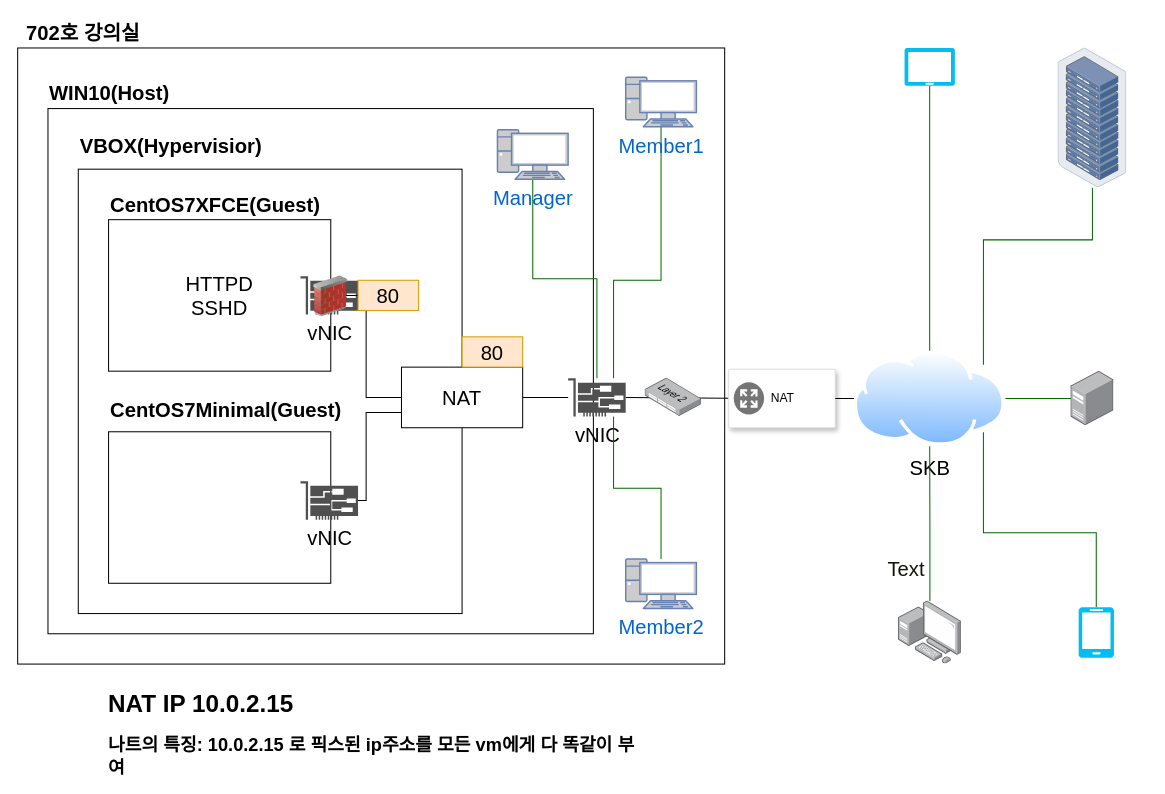
This 1165x794 diagram has some shape labels left out. The shapes that lost their labels are listed below. From the top down, each one's centre as x and y in pixels, then its label:
At (x=929, y=66): "Tab".
At (x=1091, y=117): "Data Center".
At (x=1091, y=398): "naver.com".
At (x=929, y=632): "End User".
At (x=1095, y=632): "Mobile".
